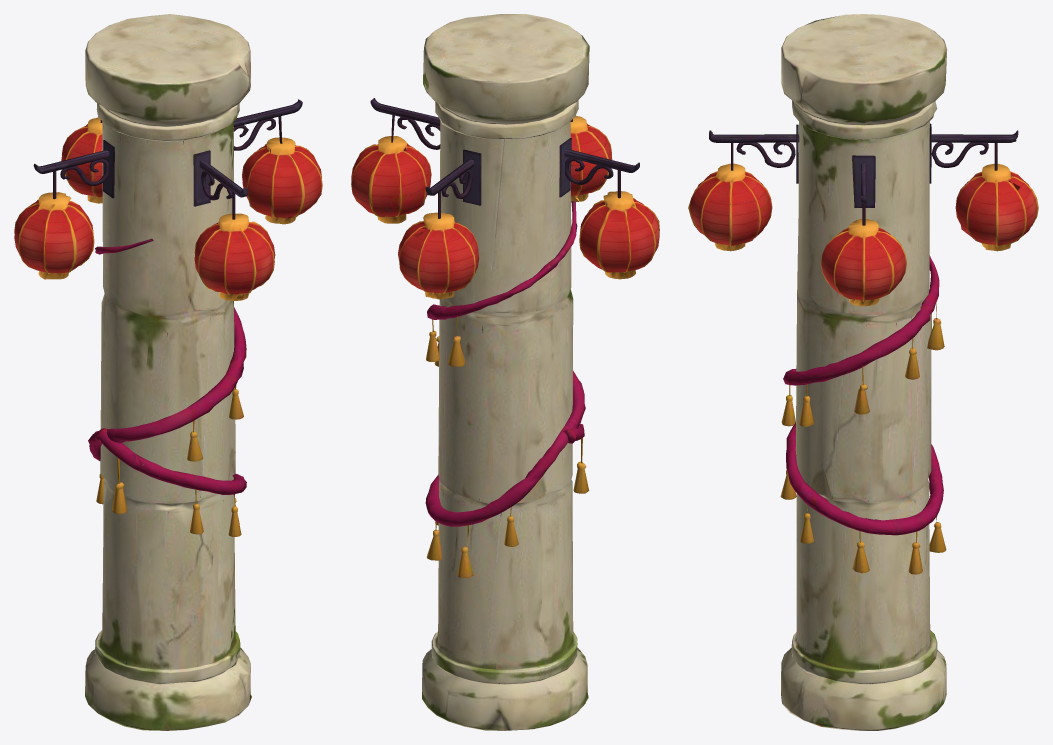
Rendered from pillar_b.glb.
3 renders of one model, left to right at view 1: azimuth 30°, elevation 25°; view 2: azimuth 150°, elevation 25°; view 3: azimuth 270°, elevation 25°, orthographic.
Parts seen in each view (by area): view 1: geometry_0; view 2: geometry_0; view 3: geometry_0.
Boxes of the visible parts, bbox=[...] form: geometry_0: bbox=[14, 14, 322, 730]; geometry_0: bbox=[351, 14, 659, 730]; geometry_0: bbox=[688, 14, 1038, 730].
Bounding box in the file's own units: 0.46 × 0.9497 × 0.4653.
1 material, 1 textured.
